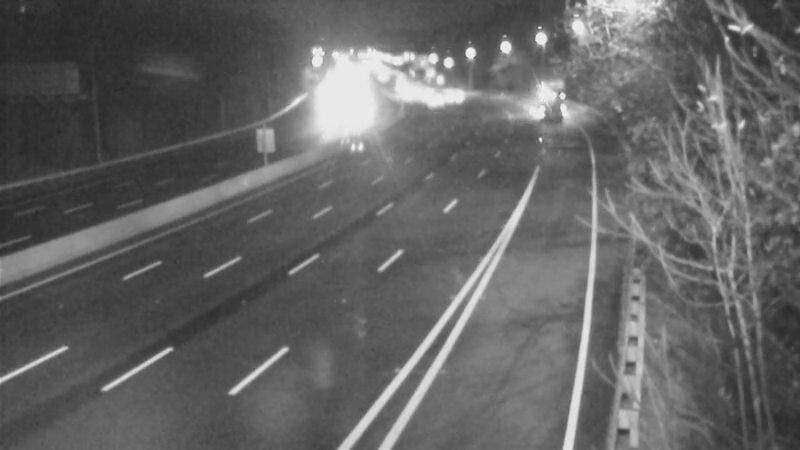vehicle: (432, 68, 482, 118), (405, 72, 455, 122), (525, 75, 575, 125)
